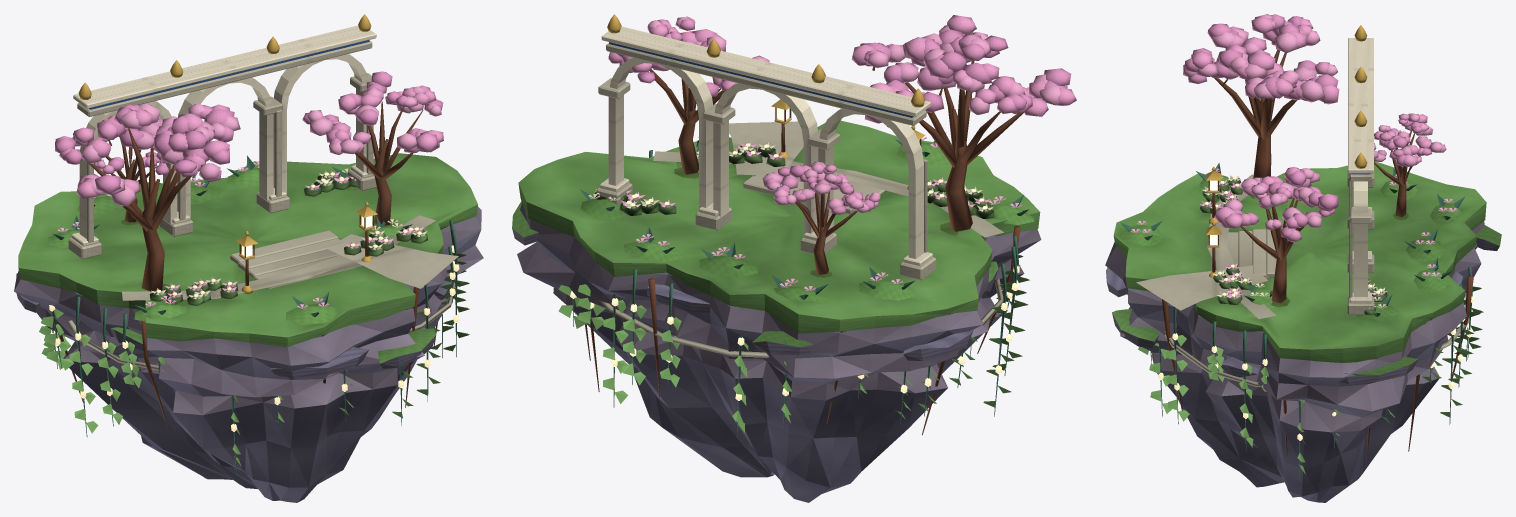
Rendered from sky-garden-final-v1-balanced.glb.
3 views of the same model, side by side, from view 1: azimuth 30°, elevation 25°; view 2: azimuth 150°, elevation 25°; view 3: azimuth 270°, elevation 25° (orthographic). The views are drawn at different scales.
Visible parts, largest first — view 1: sky-garden-final-v1; view 2: sky-garden-final-v1; view 3: sky-garden-final-v1.
Boxes of the visible parts, x1,y1,x2,y2 form: sky-garden-final-v1: [14, 14, 483, 502]; sky-garden-final-v1: [512, 14, 1076, 502]; sky-garden-final-v1: [1105, 14, 1501, 502].
Bounding box in the file's own units: 13.45 × 12.28 × 11.06.
10 materials, 10 textured.
